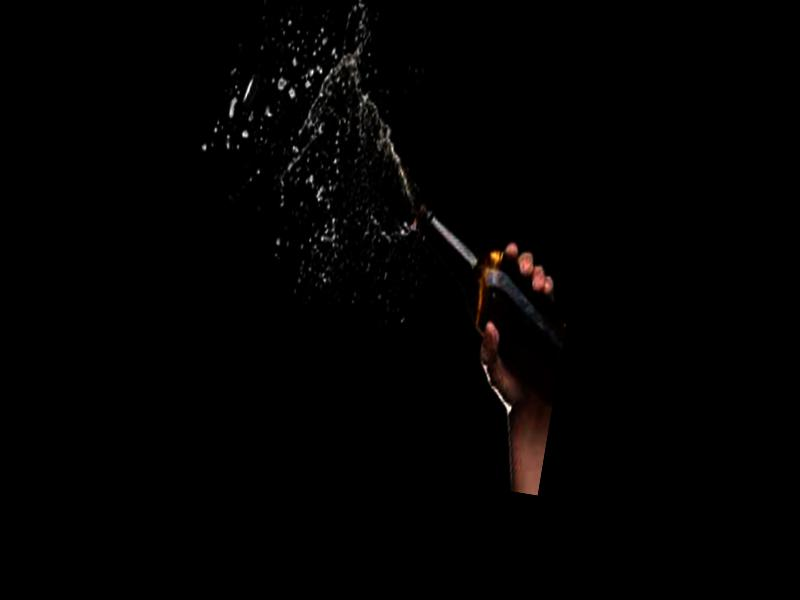Beer: (389, 198, 580, 409)
